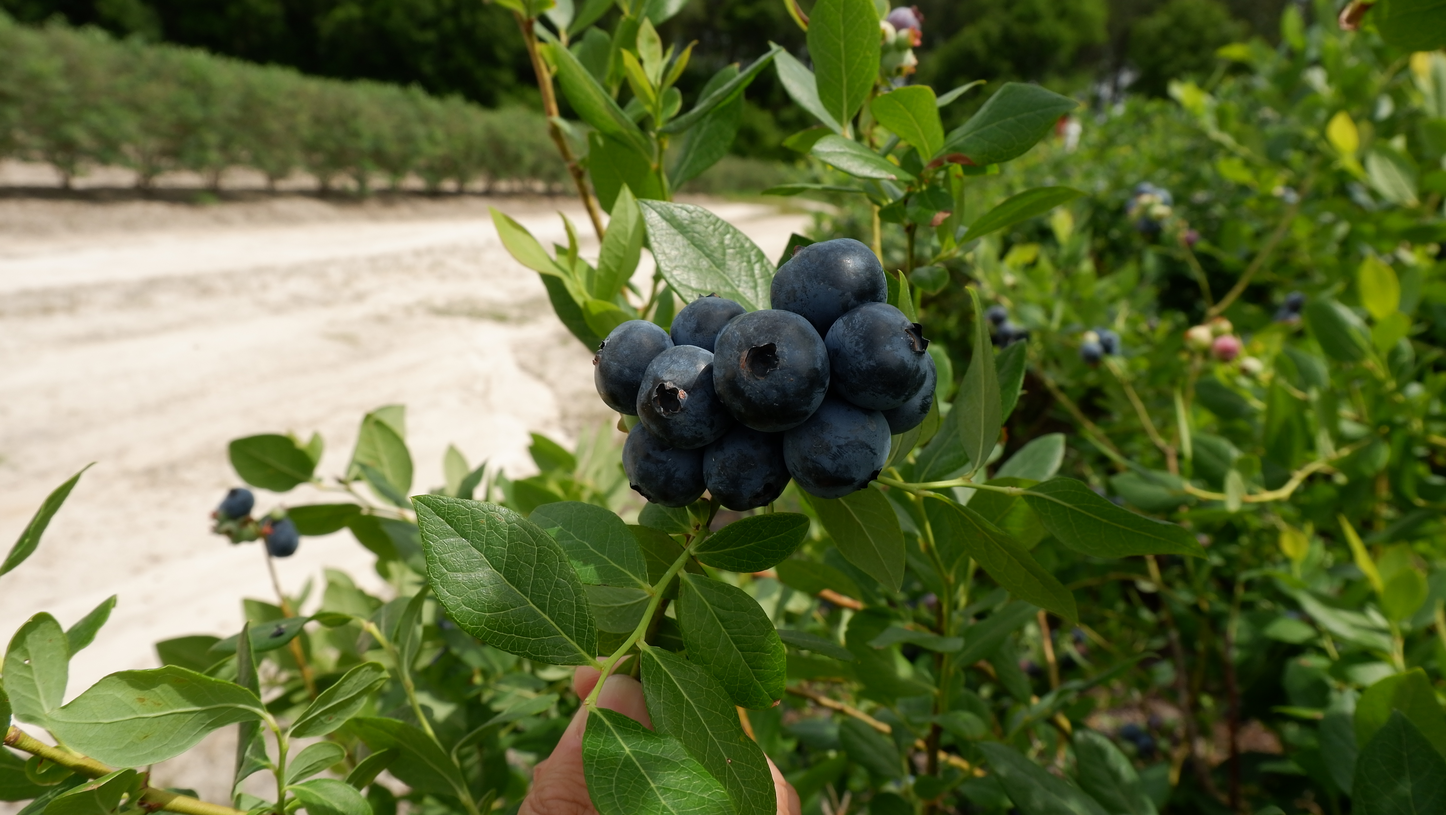Immature: (617, 412, 644, 435)
Mature: (713, 309, 830, 429), (771, 237, 887, 340), (824, 303, 928, 411), (785, 392, 891, 496), (637, 344, 737, 446), (595, 319, 674, 415), (704, 424, 792, 510), (623, 421, 708, 507), (881, 350, 937, 434), (670, 293, 748, 353)
